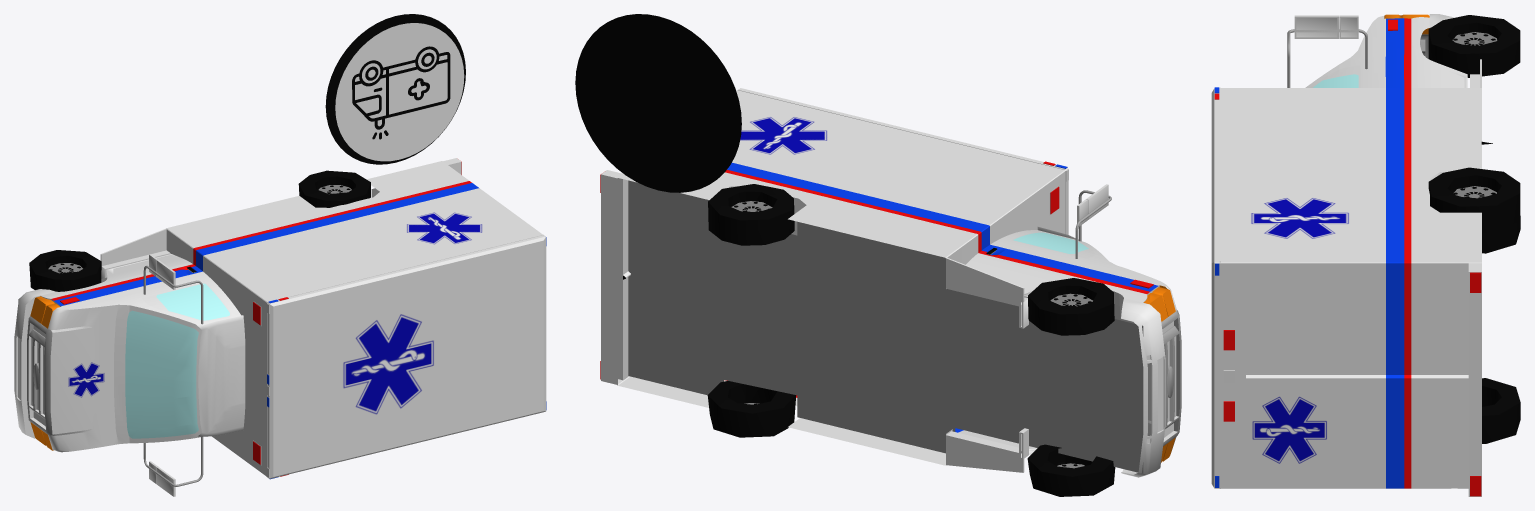
Rendered from American_AmbulanceShaderTest.glb.
3 views of the same model, side by side, from view 1: azimuth 30°, elevation 25°; view 2: azimuth 150°, elevation 25°; view 3: azimuth 270°, elevation 25° (orthographic). The views are drawn at different scales.
Visible parts, largest first — view 1: Object_AmericanAmbulance_For_3D_0xFFC0CB, RotatingIcon, EMSLogo, Object_AmericanAmbulanceTires_For_3D_0x000000; view 2: Object_AmericanAmbulance_For_3D_0xFFC0CB, RotatingIcon, Object_AmericanAmbulanceTires_For_3D_0x000000, EMSLogo; view 3: Object_AmericanAmbulance_For_3D_0xFFC0CB, Object_AmericanAmbulanceTires_For_3D_0x000000, EMSLogo.
Boxes of the visible parts, <box> form: Object_AmericanAmbulance_For_3D_0xFFC0CB: <box>14,158,546,496</box>; RotatingIcon: <box>325,14,465,164</box>; EMSLogo: <box>68,212,482,414</box>; Object_AmericanAmbulanceTires_For_3D_0x000000: <box>29,170,370,291</box>; Object_AmericanAmbulance_For_3D_0xFFC0CB: <box>600,88,1181,477</box>; RotatingIcon: <box>575,14,741,192</box>; Object_AmericanAmbulanceTires_For_3D_0x000000: <box>707,184,1115,496</box>; EMSLogo: <box>740,117,827,154</box>; Object_AmericanAmbulance_For_3D_0xFFC0CB: <box>1211,14,1481,496</box>; Object_AmericanAmbulanceTires_For_3D_0x000000: <box>1428,15,1520,443</box>; EMSLogo: <box>1251,198,1348,463</box>.
Bounding box in the file's own units: 6.72 × 4.77 × 2.96.
Materials: 2 (2 with a texture image).
